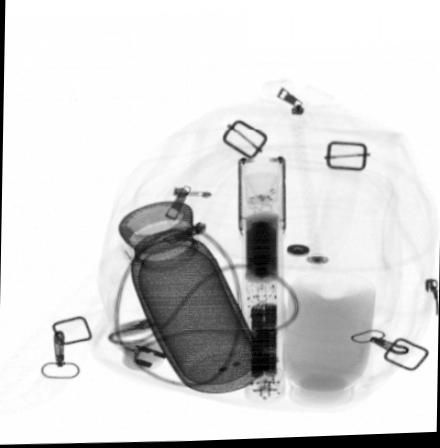Baton: (237, 153, 286, 410)
